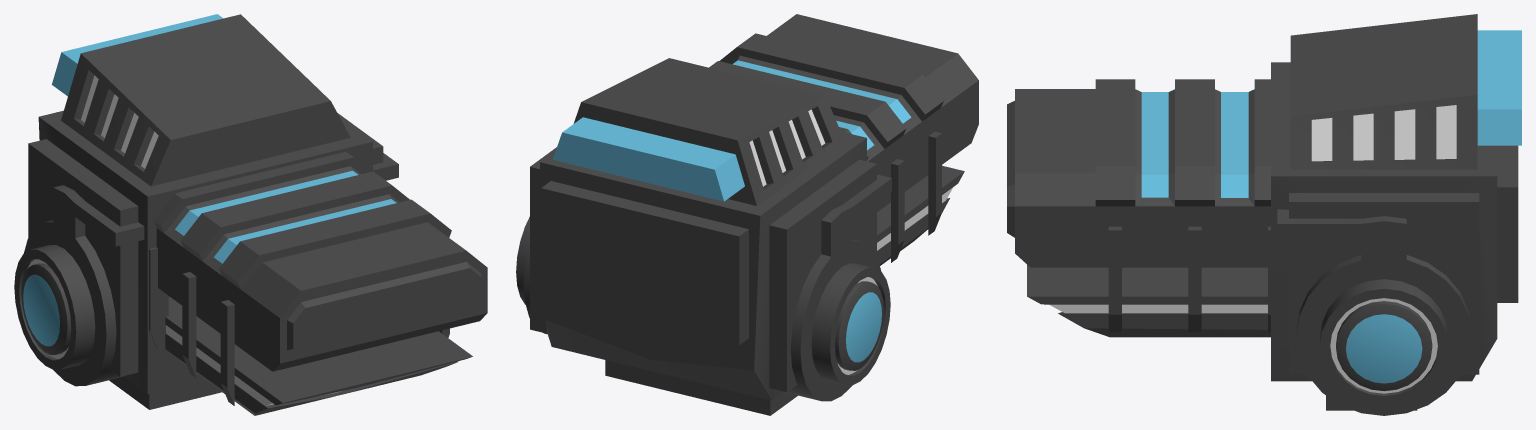
The model's file is TurretShotgunMeshHead.fbx.
3 views of the same model, side by side, from view 1: azimuth 30°, elevation 25°; view 2: azimuth 150°, elevation 25°; view 3: azimuth 270°, elevation 25° (orthographic). The views are drawn at different scales.
Visible parts, largest first — view 1: Cube.009; view 2: Cube.009; view 3: Cube.009.
Part boxes in pixels (<box>): Cube.009: <box>14,14,487,415</box>; Cube.009: <box>516,14,978,415</box>; Cube.009: <box>1007,14,1521,415</box>.
Size of the model in its own units: 89.84 by 78.96 by 118.
